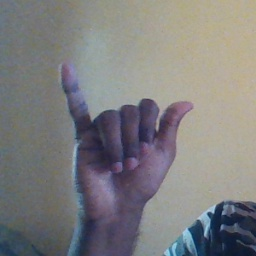J: (53, 60, 198, 215)
